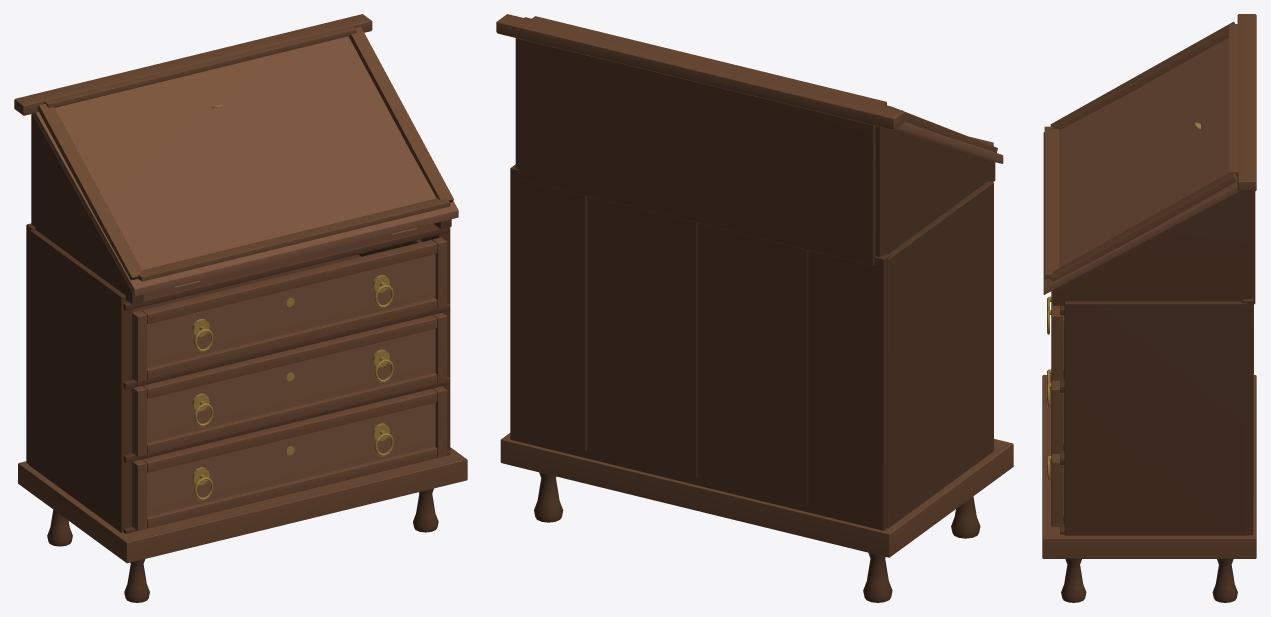
The model's file is rpg-mansion-slant-bureau-01.glb.
The picture shows the model from 3 angles, left to right: view 1: azimuth 30°, elevation 25°; view 2: azimuth 150°, elevation 25°; view 3: azimuth 270°, elevation 25°; orthographic projection. The views are drawn at different scales.
Visible parts, largest first — view 1: rpg-mansion-slant-bureau-01; view 2: rpg-mansion-slant-bureau-01; view 3: rpg-mansion-slant-bureau-01.
Boxes of the visible parts, bbox=[...] form: rpg-mansion-slant-bureau-01: bbox=[14, 14, 467, 602]; rpg-mansion-slant-bureau-01: bbox=[496, 14, 1013, 602]; rpg-mansion-slant-bureau-01: bbox=[1042, 14, 1256, 602].
Bounding box in the file's own units: 1 × 1.2 × 0.54.
